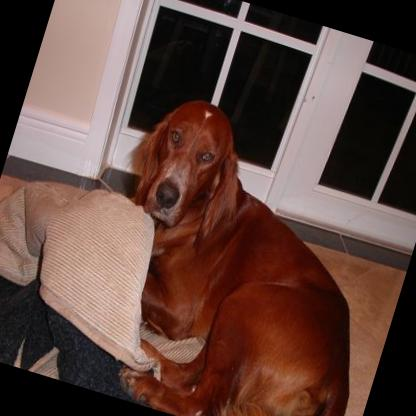Irish_setter: (55, 82, 416, 416)
